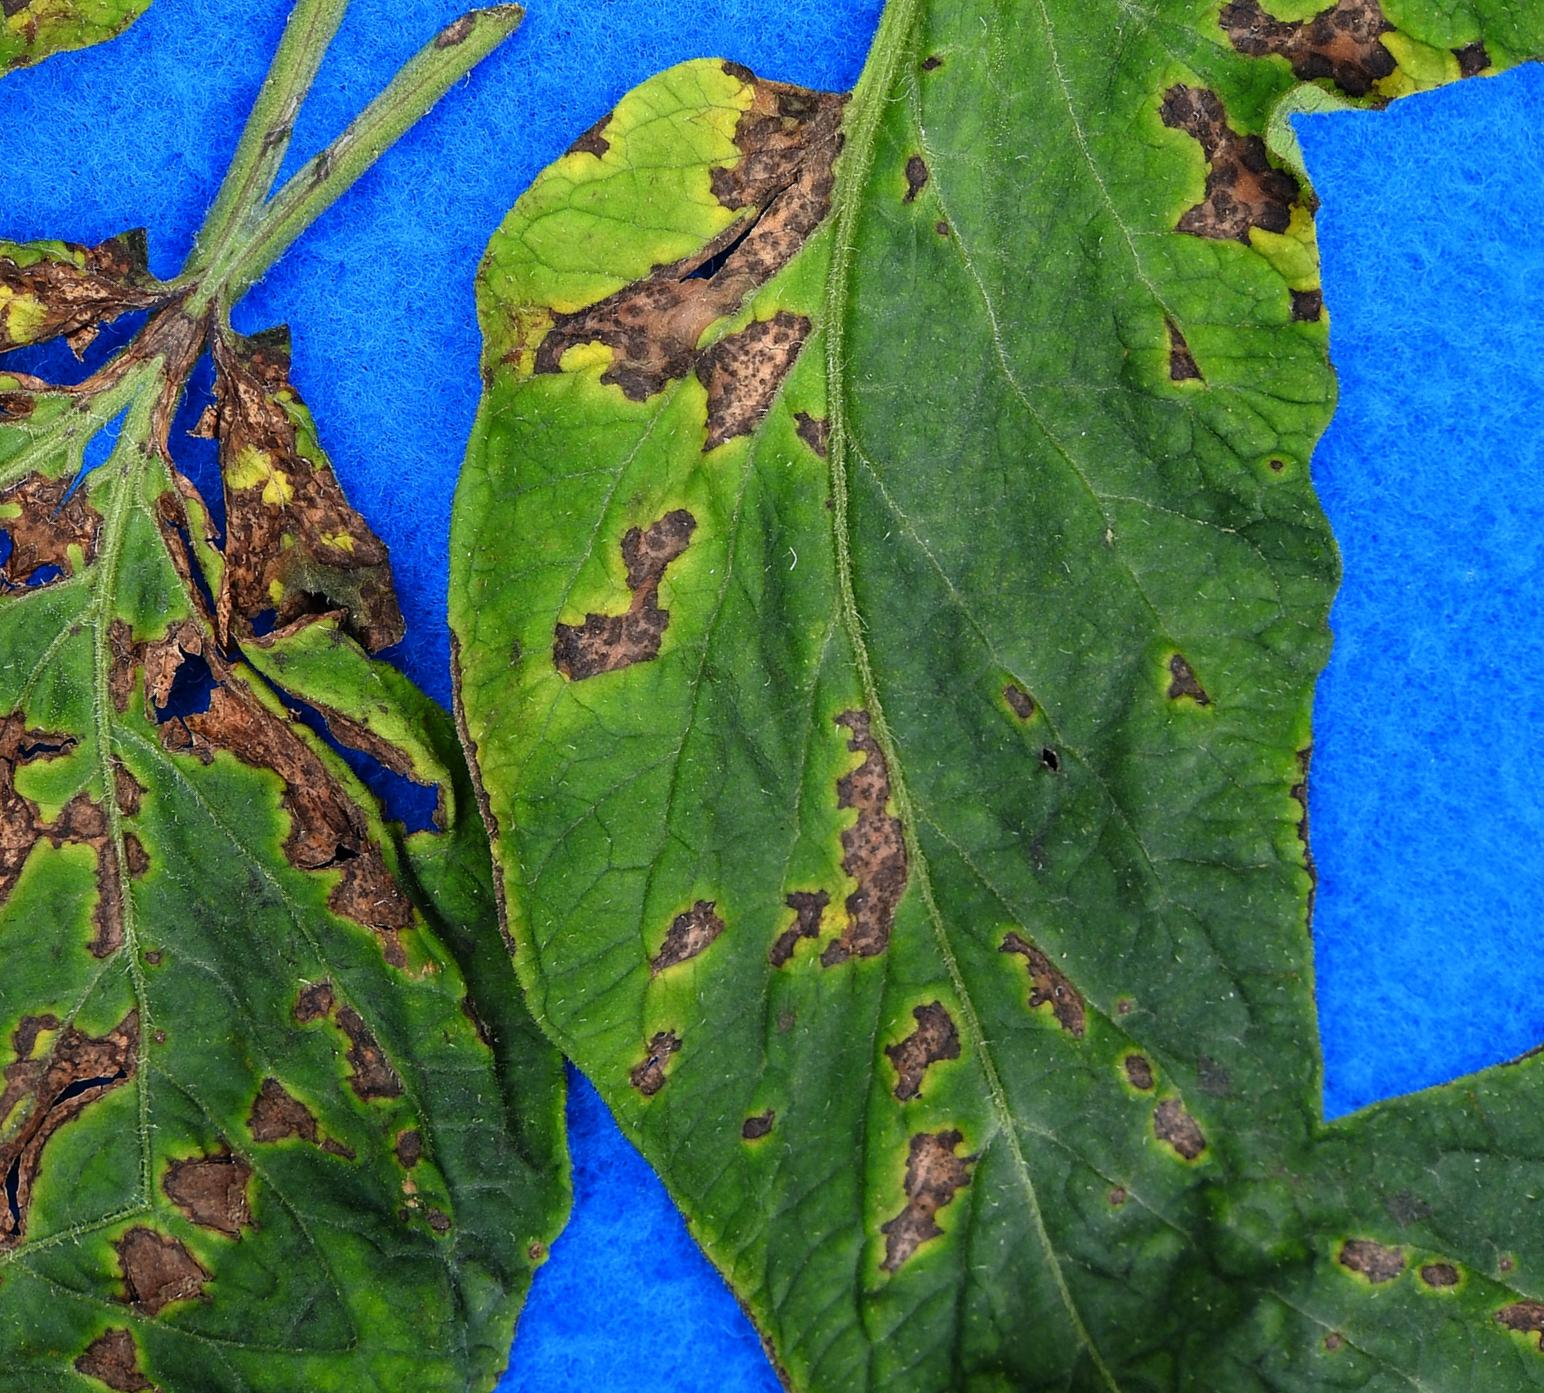Tomato leaf bacterial spot: (0, 0, 1544, 1393), (0, 336, 941, 1393), (453, 0, 874, 91)
